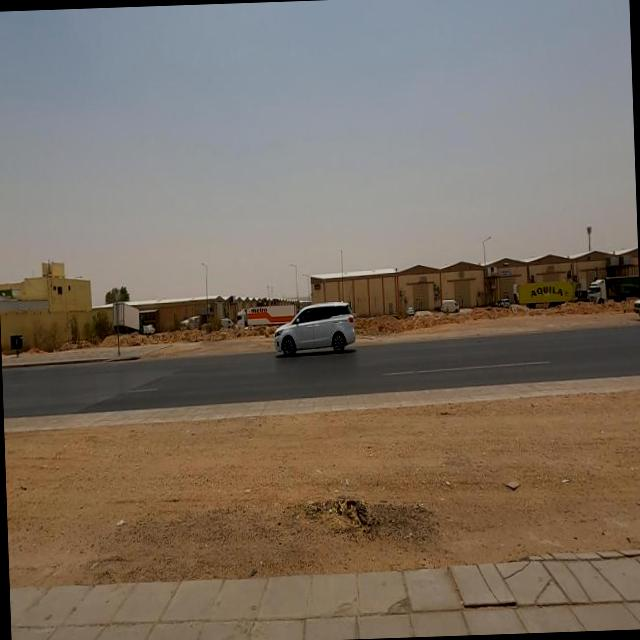debris: (304, 466, 404, 562), (478, 448, 542, 526), (104, 509, 135, 541)
